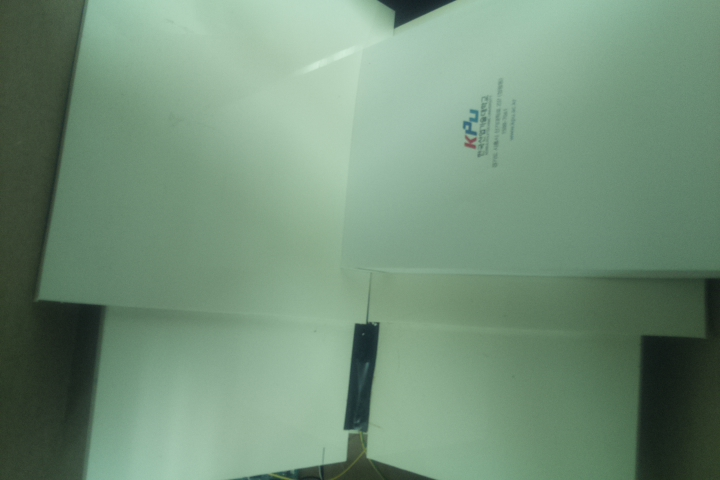book: (337, 1, 720, 277)
